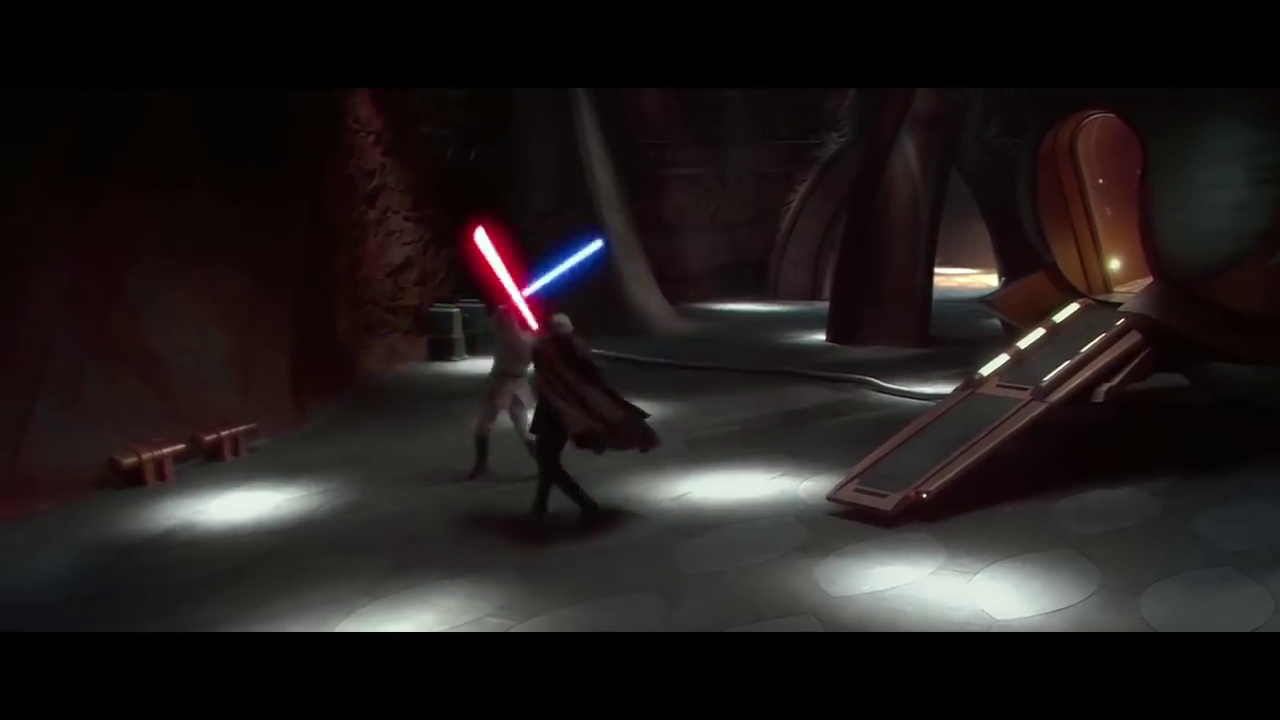lightsaber: (500, 236, 607, 313), (470, 220, 541, 334)
